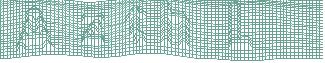A: (15, 7, 58, 55)
L: (226, 1, 256, 53)
h: (159, 1, 193, 52)
t: (123, 5, 150, 47)
z: (77, 12, 107, 48)
